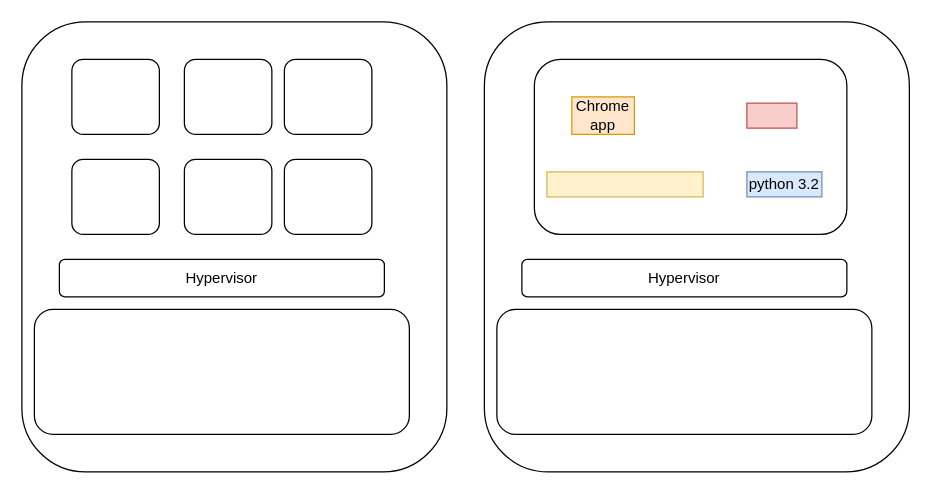
Image size: 931x494. Some labels were removed from this diagram. Each missing label, with the box of its shape:
NodeJs: (746, 102, 797, 128)
python 3.7: (546, 171, 703, 197)
